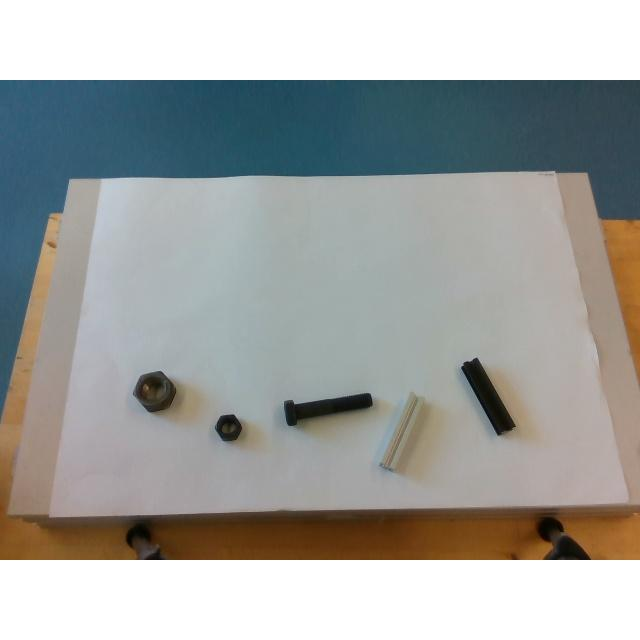F20_20_B: (461, 357, 515, 435)
F20_20_G: (379, 392, 423, 470)
M20: (215, 414, 241, 440)
M20_100: (284, 393, 372, 425)
M30: (133, 371, 175, 411)
